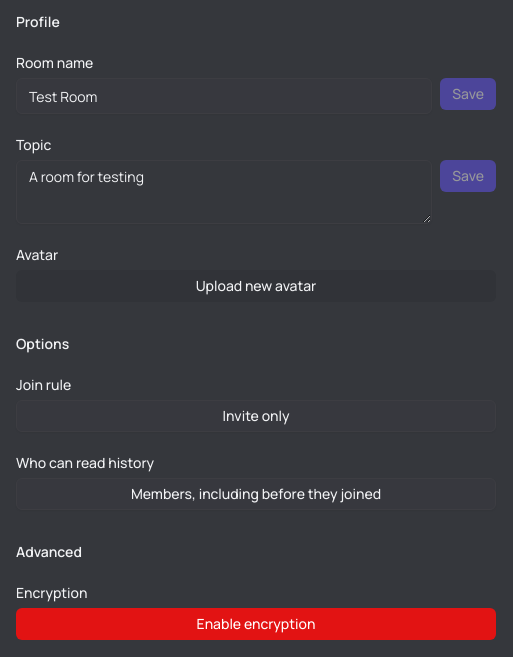
it: RoomSettingsForm › enables the name field, and the save button once its value changes, when can.set_name is true
Expected: the 1st button "Save" is disabled, [440,78,496,110]
Replace the text in the field labelled "Room name" with "New Name" at (224, 96), box [16,78,432,114]
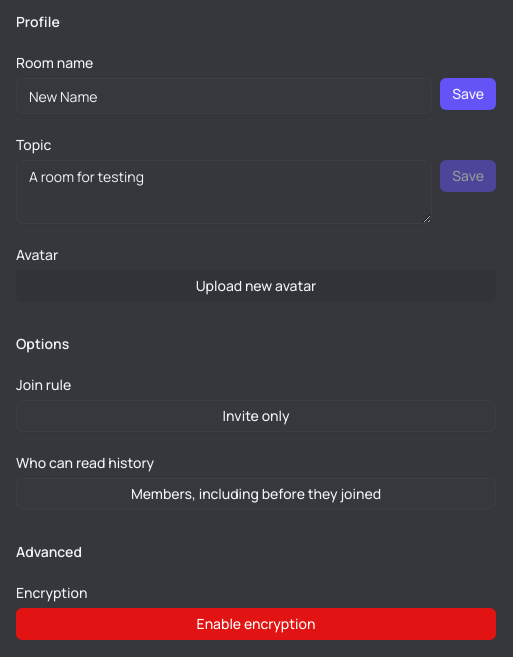
Result: the 1st button "Save" is enabled at [440,78,496,110]
